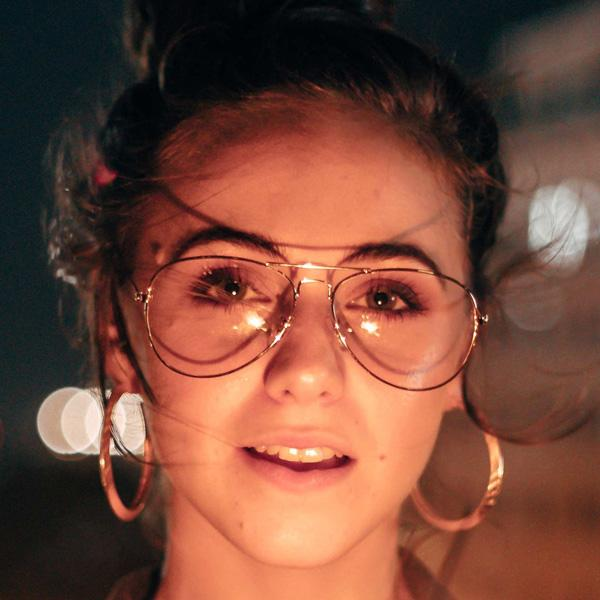Eyes: (184, 260, 281, 319), (336, 272, 427, 326)
